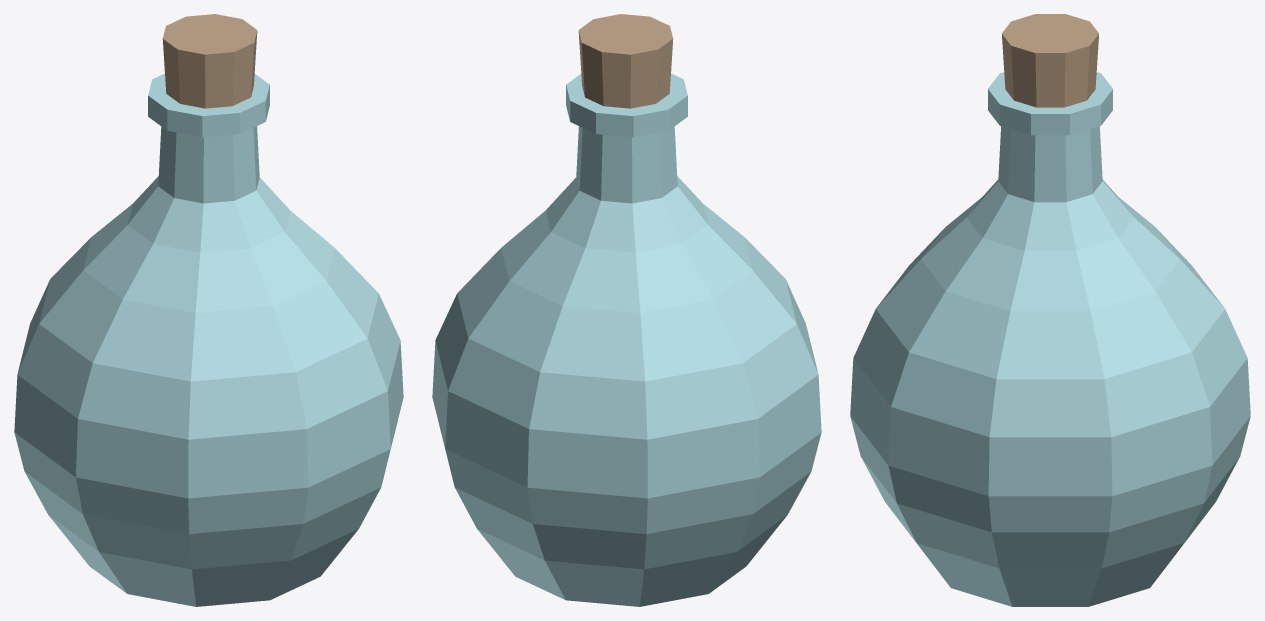
The model's file is Bottle_07.fbx.
3 renders of one model, left to right at view 1: azimuth 30°, elevation 25°; view 2: azimuth 150°, elevation 25°; view 3: azimuth 270°, elevation 25°, orthographic.
Visible parts, largest first — view 1: Bottle_07; view 2: Bottle_07; view 3: Bottle_07.
Boxes of the visible parts, <box> form: Bottle_07: <box>14,14,403,606</box>; Bottle_07: <box>432,14,821,606</box>; Bottle_07: <box>850,14,1250,606</box>.
Bounding box in the file's own units: 3.97 × 6.03 × 4.17.
